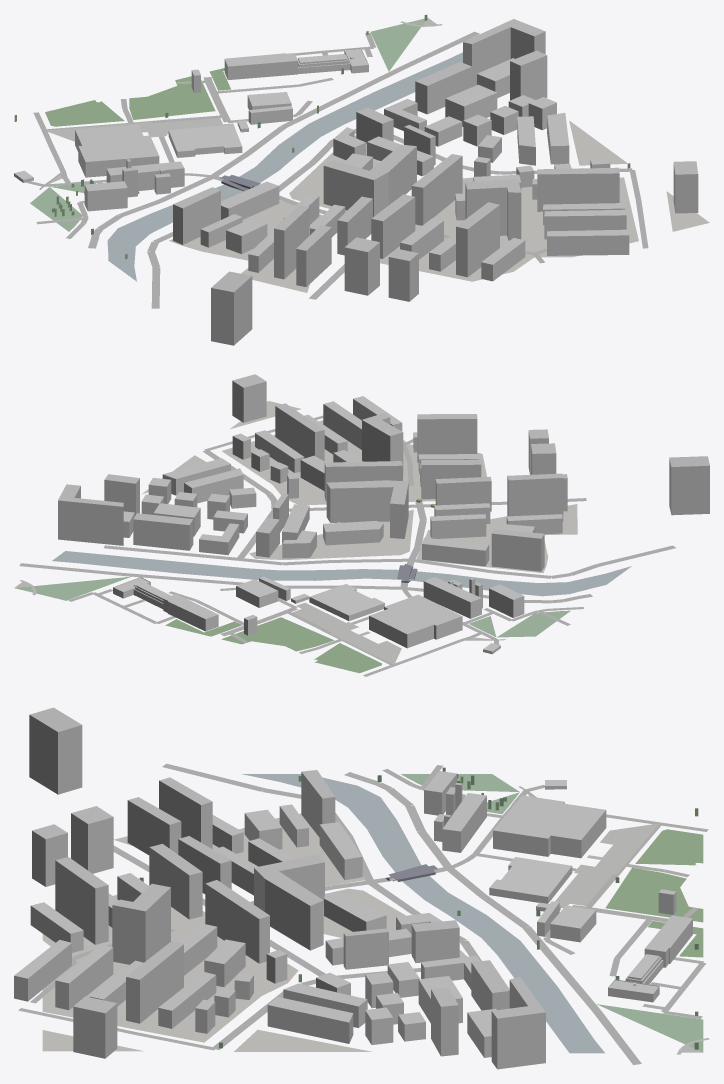
3 renders of one model, top to bottom at view 1: azimuth 30°, elevation 25°; view 2: azimuth 150°, elevation 25°; view 3: azimuth 270°, elevation 25°, orthographic. The views are drawn at different scales.
Bounding box in the file's own units: 548 × 54.77 × 527.
